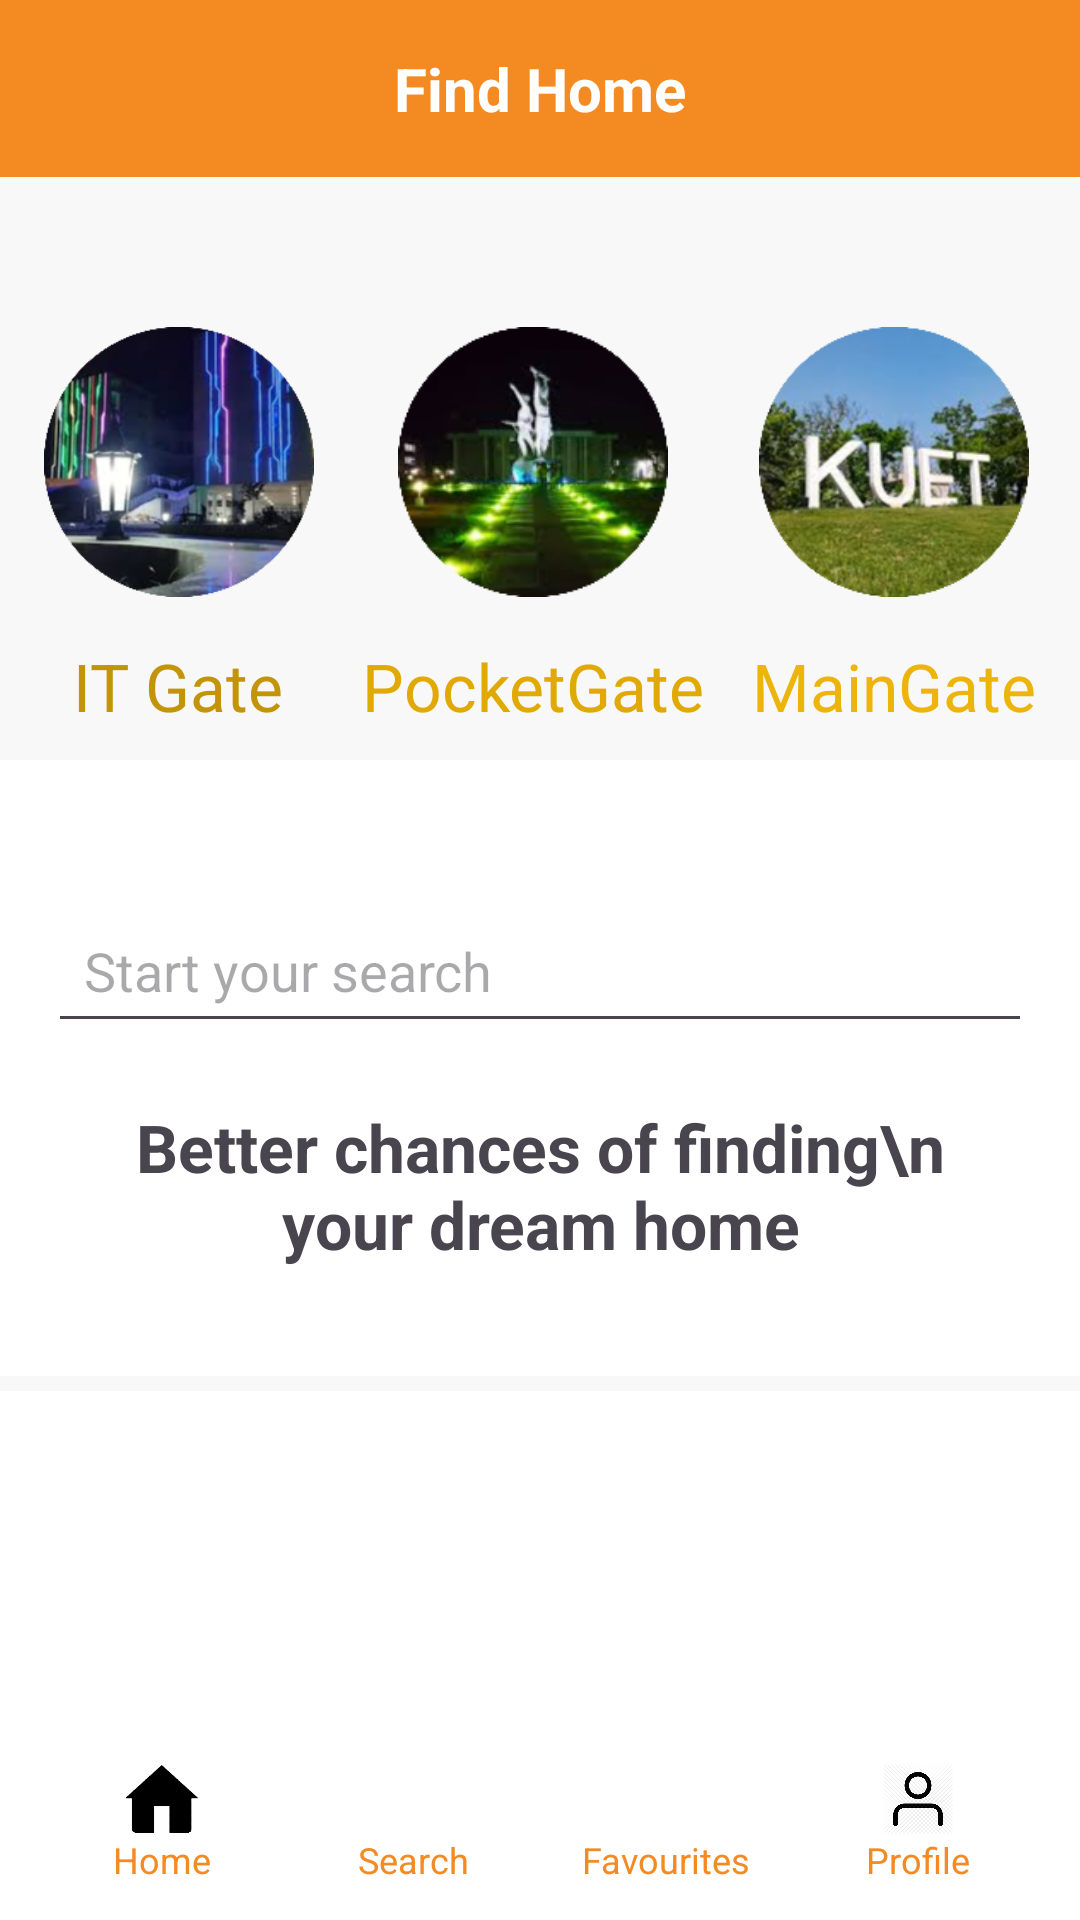

Locate icon controls on the screen. Image size 1080w x 1920h, boxes as bbox=[x1, y1, x2, y2].
person: bbox=[893, 1772, 943, 1826]
